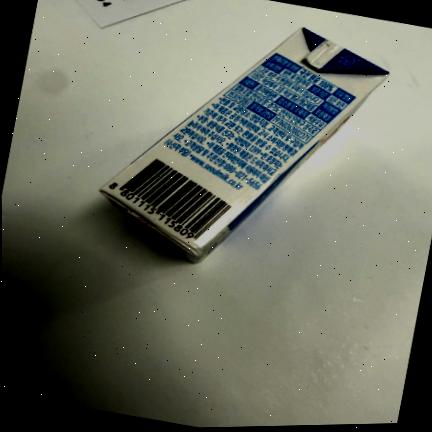milk_blue: (100, 29, 388, 263)
